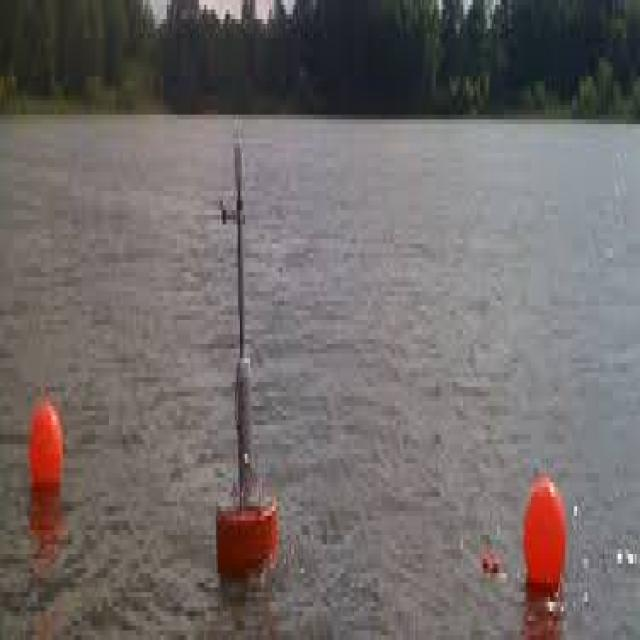buoy: (206, 121, 282, 592), (517, 437, 574, 635), (25, 381, 65, 509)
